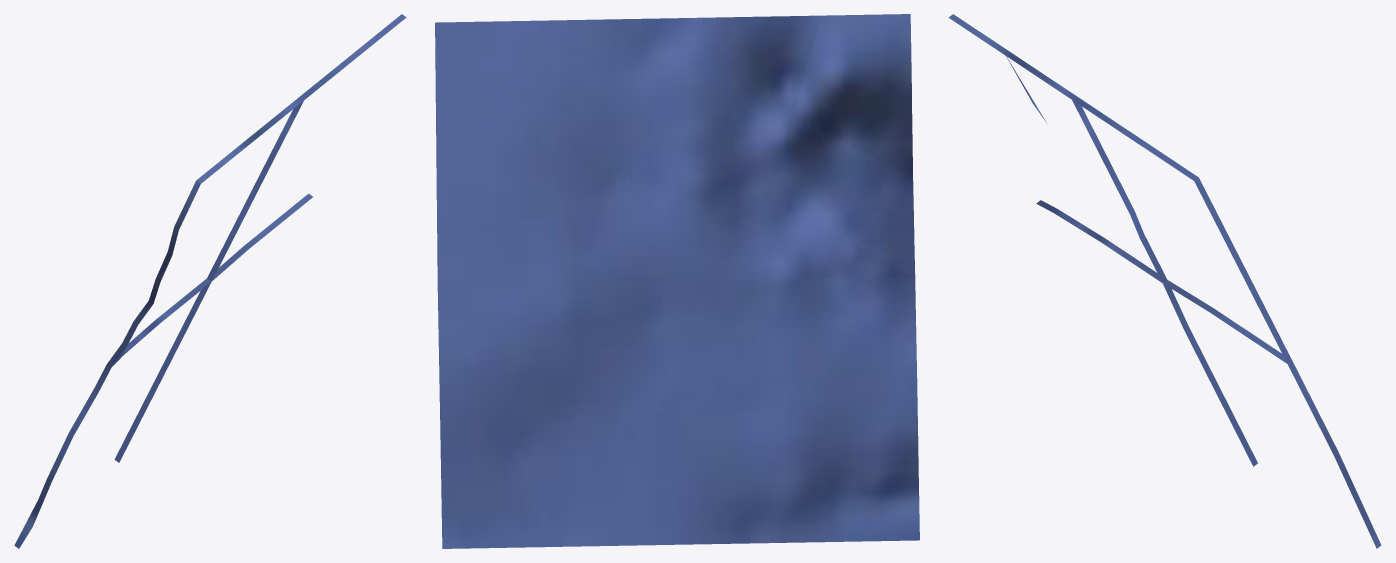
3 views of the same model, side by side, from view 1: azimuth 30°, elevation 25°; view 2: azimuth 150°, elevation 25°; view 3: azimuth 270°, elevation 25° (orthographic). The views are drawn at different scales.
Bounding box in the file's own units: 19458 × 17925 × 16751.
Materials: 1 (1 with a texture image).
